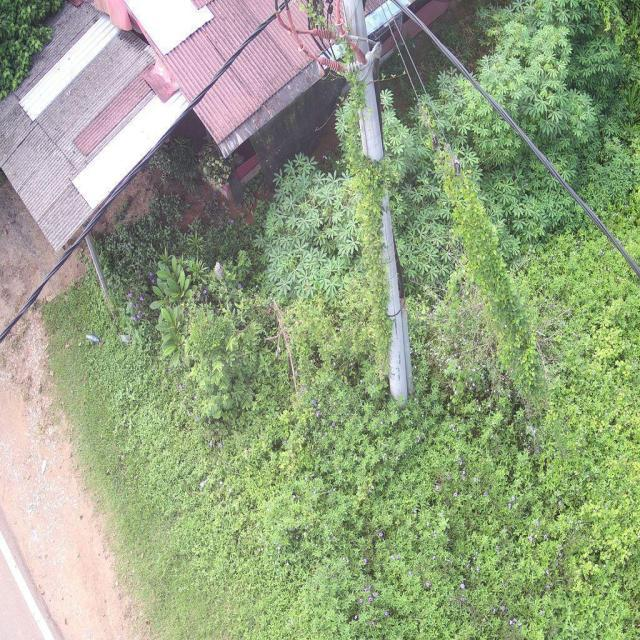critical vegetation: (429, 100, 582, 458), (322, 32, 411, 386)
